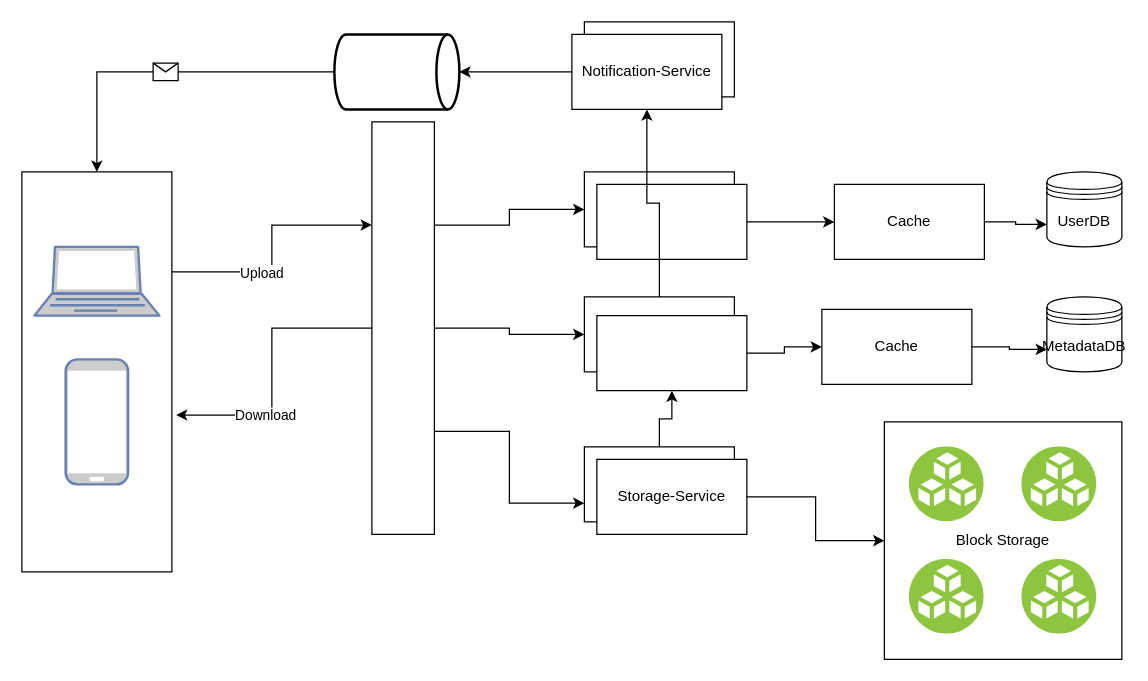
The diagram is 1148 pixels wide and 681 high, and some of its shapes have lost their labels. Here are the shapes that lost their labels. From the top down, the centre of each, then its label:
At point (396, 71): "Queue".
At point (671, 221): "User-Service".
At point (402, 327): "LB".
At point (671, 352): "Metadata-service".
